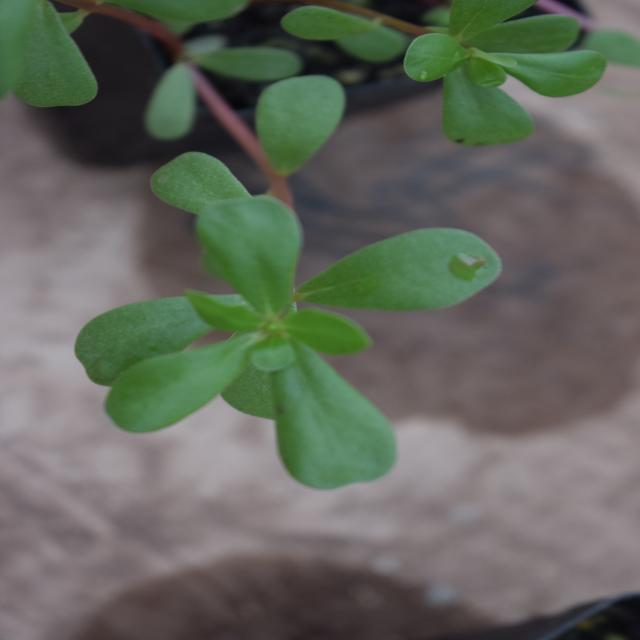purslane: (0, 19, 501, 582)
